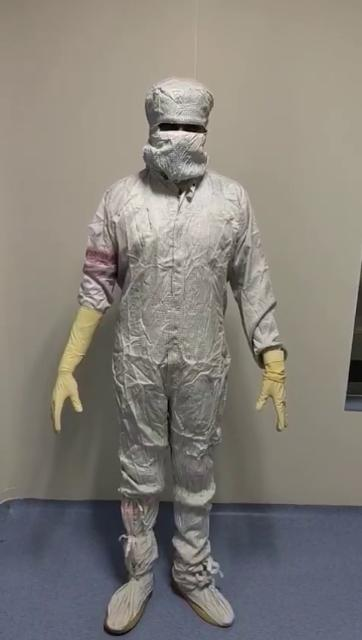boot_not_secured: (169, 512, 241, 634)
boot_secured: (102, 478, 164, 640)
gloves_fitted_securely: (42, 290, 120, 458)
gloves_not_fitted_securely: (236, 326, 310, 428)
headgear_not_secured_backside: (112, 66, 236, 184)
zip_not_secured: (162, 168, 208, 226)
